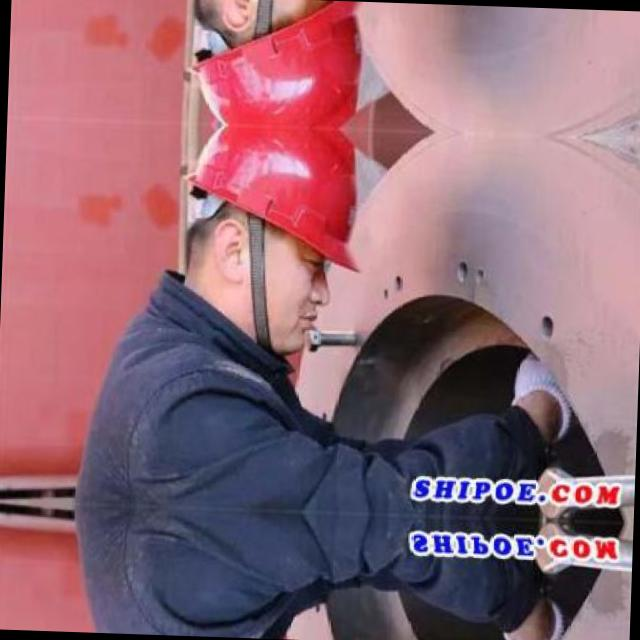helmet: (162, 125, 370, 351), (168, 0, 375, 127)
